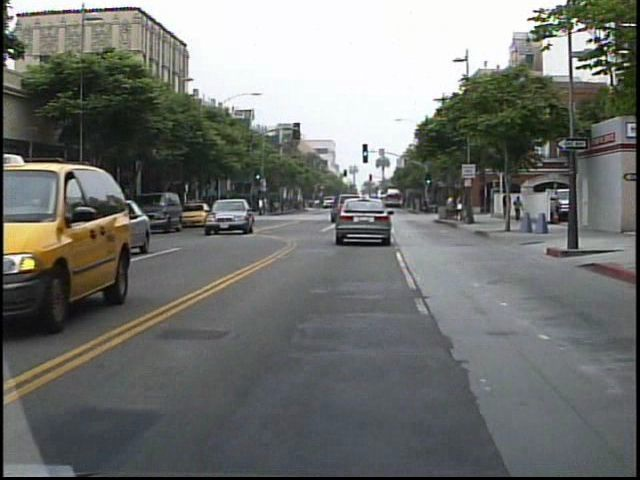person: (500, 187, 515, 227), (441, 190, 460, 221), (511, 192, 524, 224), (259, 194, 268, 219)
